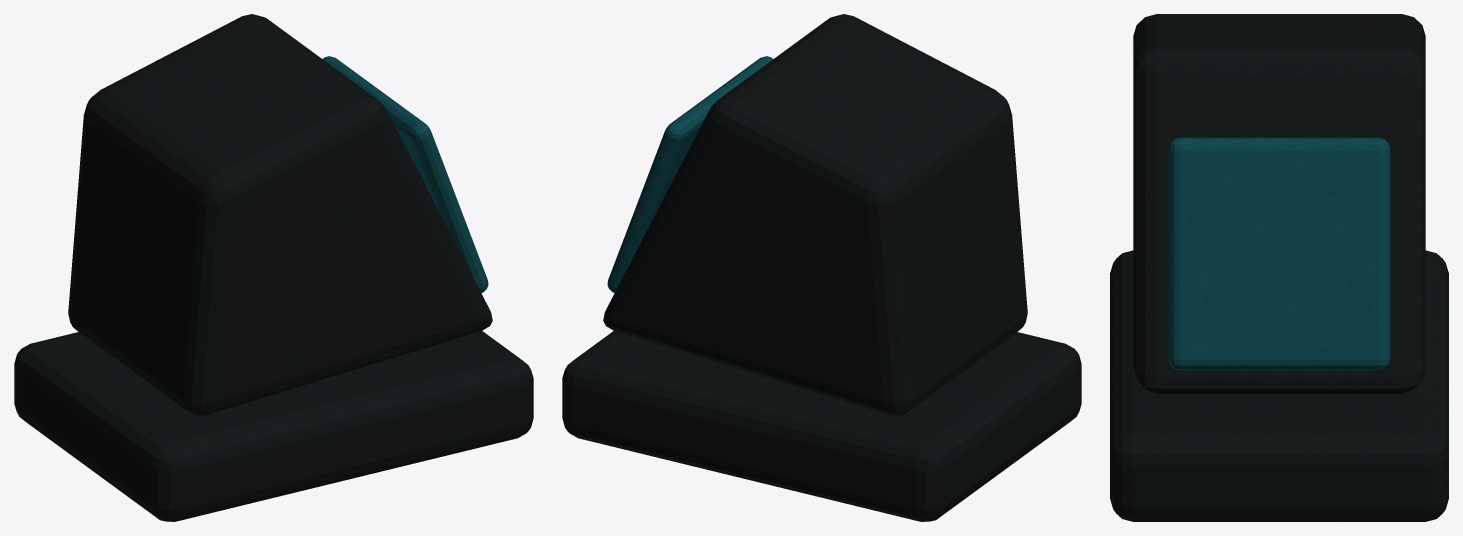
Rendered from shared.optic.micro.glb.
3 renders of one model, left to right at view 1: azimuth 30°, elevation 25°; view 2: azimuth 150°, elevation 25°; view 3: azimuth 270°, elevation 25°, orthographic. The views are drawn at different scales.
Parts seen in each view (by area): view 1: VIS_shared_optic_micro; view 2: VIS_shared_optic_micro; view 3: VIS_shared_optic_micro.
Boxes of the visible parts, x1,y1,x2,y2 form: VIS_shared_optic_micro: (14, 14, 533, 521); VIS_shared_optic_micro: (562, 14, 1081, 521); VIS_shared_optic_micro: (1110, 14, 1448, 521).
Size of the model in its own units: 0.041 by 0.0375 by 0.029.
2 materials, 2 textured.
